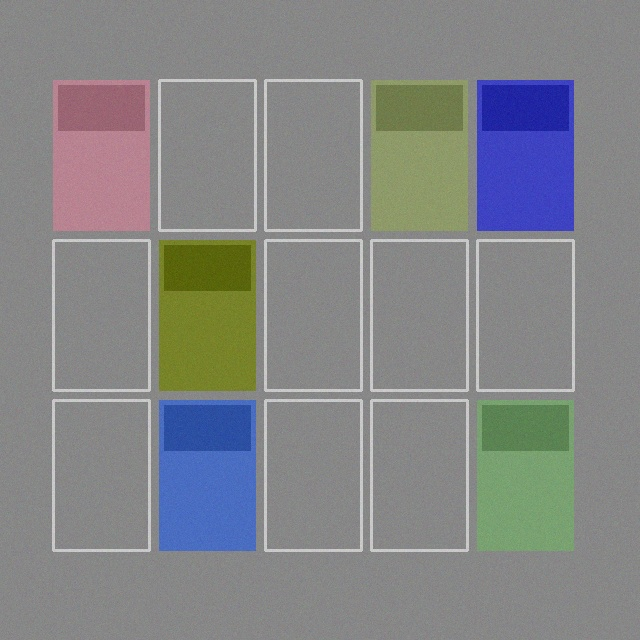space-empty: (159, 80, 255, 230), (265, 80, 361, 230), (53, 240, 149, 390), (265, 240, 361, 390), (371, 240, 467, 390), (477, 240, 573, 390), (53, 400, 149, 550), (265, 400, 361, 550), (371, 400, 467, 550)
space-occupied: (53, 80, 149, 230), (371, 80, 467, 230), (477, 80, 573, 230), (159, 240, 255, 390), (159, 400, 255, 550), (477, 400, 573, 550)
